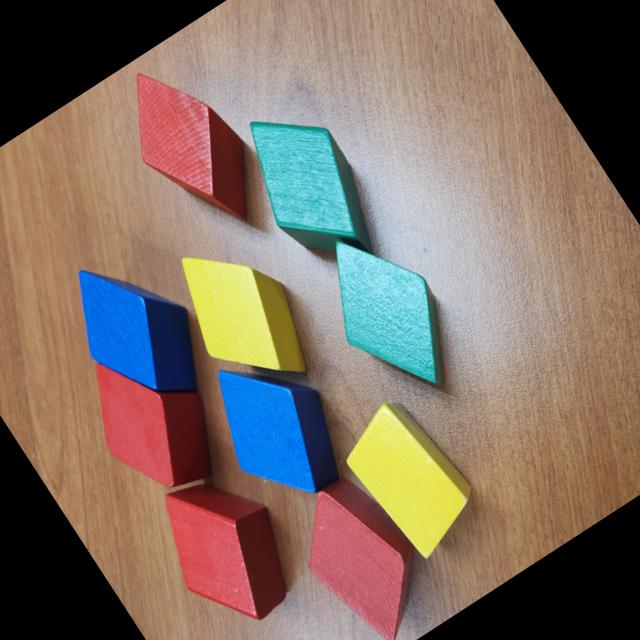blue: (49, 232, 228, 430), (188, 330, 366, 524)
green: (300, 211, 480, 415), (222, 86, 400, 290)
red: (102, 45, 292, 264), (138, 450, 317, 640), (66, 324, 240, 514), (275, 460, 455, 640)
yellow: (157, 220, 330, 412), (328, 388, 490, 570)
